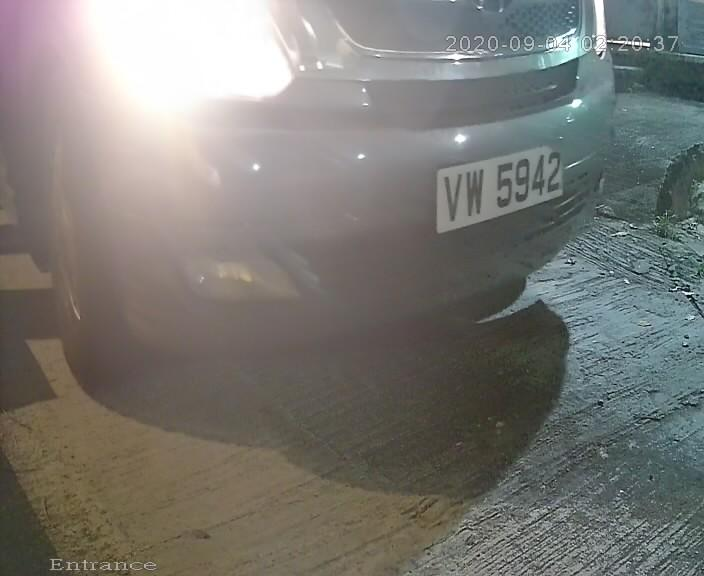License Plate: (422, 120, 573, 250)
